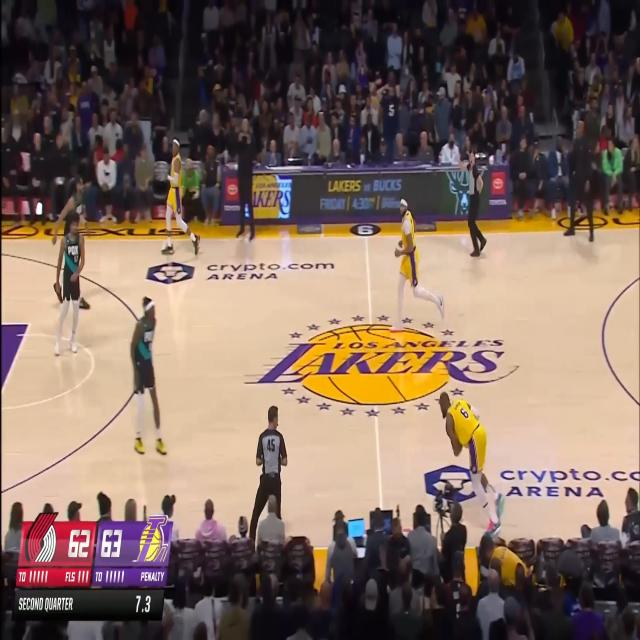Period: (17, 596, 75, 614)
Player: (438, 391, 505, 538), (390, 194, 446, 333), (130, 296, 168, 458), (160, 136, 202, 260), (52, 177, 90, 308), (53, 210, 85, 358)
Ref: (249, 406, 288, 546), (454, 148, 488, 260)
Shot Clock: (134, 592, 152, 618)
Team Points: (66, 526, 92, 560), (101, 526, 123, 562)
